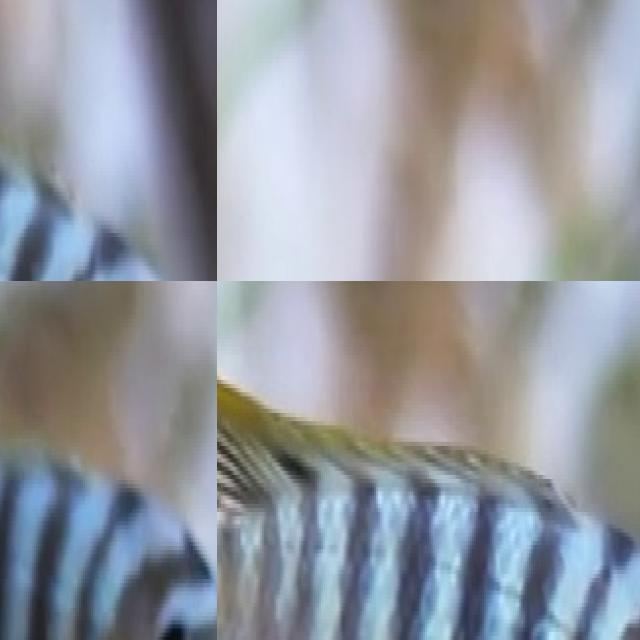fish: (217, 326, 640, 640), (0, 0, 217, 281)
